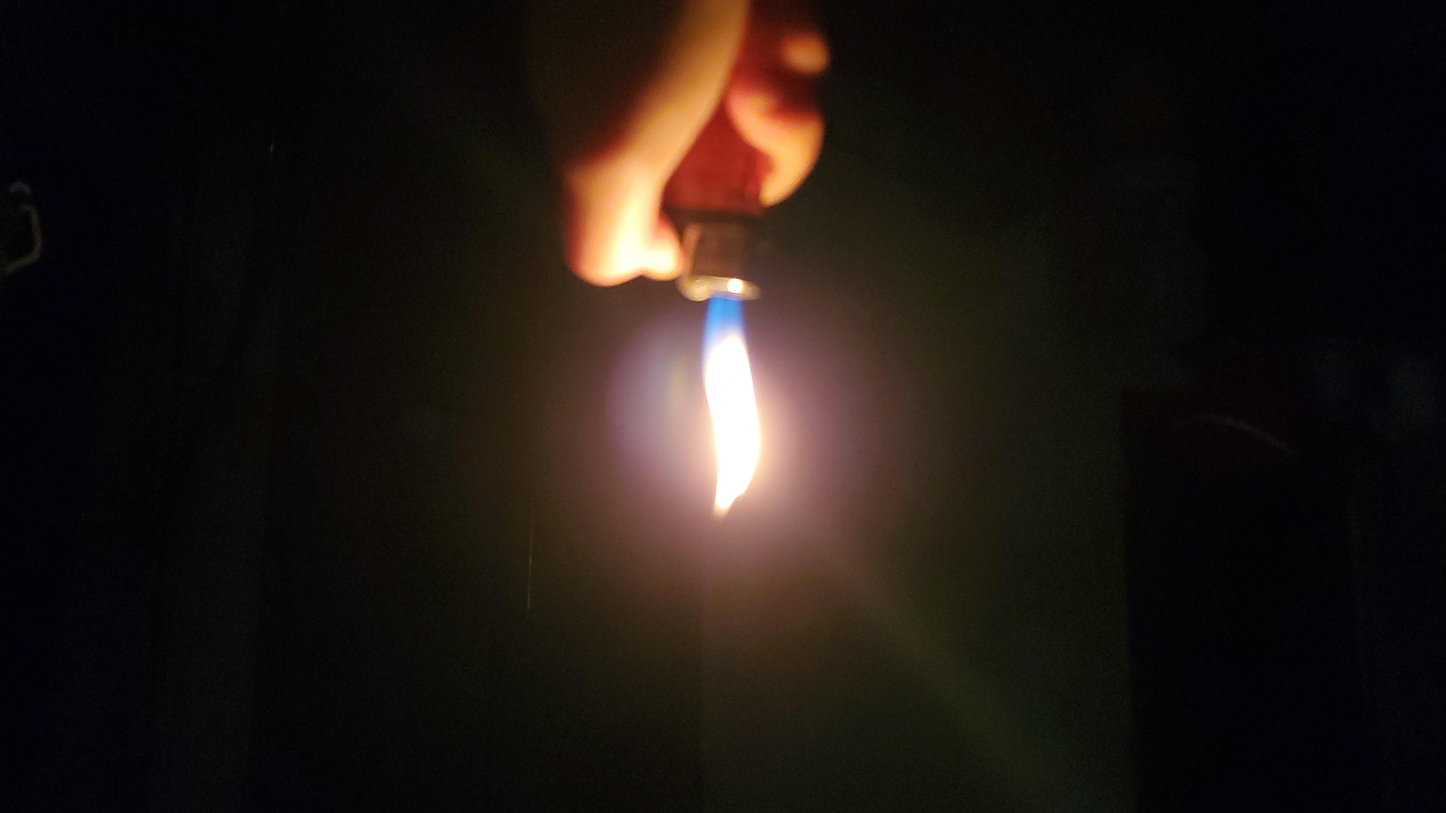fire: (692, 276, 777, 536)
